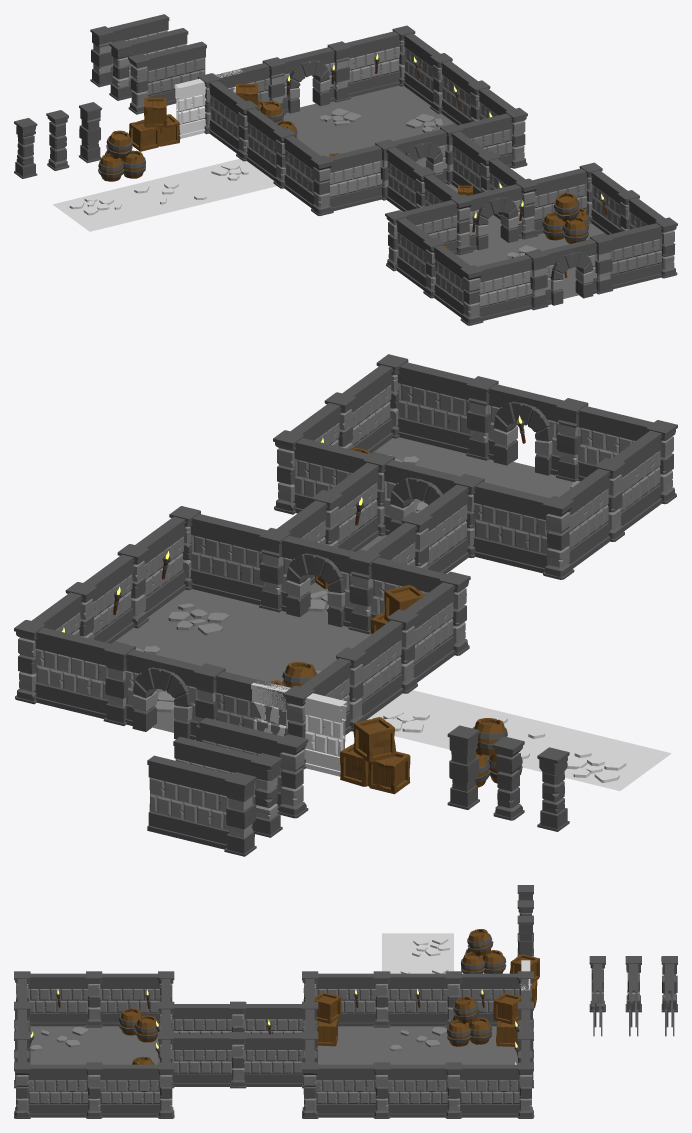
Rendered from Dungeon.fbx.
3 renders of one model, top to bottom at view 1: azimuth 30°, elevation 25°; view 2: azimuth 150°, elevation 25°; view 3: azimuth 270°, elevation 25°, orthographic. The views are drawn at different scales.
Visible parts, largest first — view 1: Cube.036, Cube.007, Cube.035, Cube.003, Cube.052, Cube.013, Cube.006, Cube.038, Cube.014, Cube.022, Cube.011, Cube.039 (+39 smaller); view 2: Cube.005, Cube.040, Cube.007, Cube.012, Cube.052, Cube.035, Cube.011, Cube.006, Cube.036, Cube.039, Cube.015, Cube.014 (+35 smaller); view 3: Cube.025, Cube.026, Cube.010, Cube.008, Cube.009, Cube.015, Cube.018, Cube.019, Cube.039, Cube.038, Cube.014, Cube.016 (+41 smaller).
Boxes of the visible parts, bbox=[...] form: Cube.036: bbox=[478, 249, 548, 320]; Cube.007: bbox=[327, 31, 400, 102]; Cube.035: bbox=[607, 217, 677, 289]; Cube.003: bbox=[128, 41, 206, 114]; Cube.052: bbox=[543, 233, 613, 305]; Cube.013: bbox=[328, 139, 398, 211]; Cube.006: bbox=[262, 47, 335, 115]; Cube.038: bbox=[434, 245, 483, 325]; Cube.014: bbox=[284, 135, 333, 215]; Cube.022: bbox=[467, 184, 523, 250]; Cube.011: bbox=[457, 107, 527, 168]; Cube.039: bbox=[396, 218, 445, 298]; Cube.005: bbox=[147, 755, 256, 856]; Cube.040: bbox=[473, 481, 574, 579]; Cube.007: bbox=[34, 627, 135, 725]; Cube.012: bbox=[259, 528, 356, 627]; Cube.052: bbox=[466, 376, 563, 475]; Cube.035: bbox=[376, 354, 473, 453]; Cube.011: bbox=[169, 506, 266, 604]; Cube.006: bbox=[125, 649, 225, 741]; Cube.036: bbox=[556, 398, 653, 481]; Cube.039: bbox=[560, 458, 626, 568]; Cube.015: bbox=[353, 609, 418, 720]; Cube.014: bbox=[404, 571, 470, 682]; Cube.025: bbox=[100, 1062, 174, 1118]; Cube.026: bbox=[28, 1062, 102, 1118]; Cube.010: bbox=[316, 1062, 390, 1118]; Cube.008: bbox=[459, 1062, 534, 1118]; Cube.009: bbox=[387, 1062, 462, 1118]; Cube.015: bbox=[373, 971, 448, 1027]; Cube.018: bbox=[230, 1032, 303, 1088]; Cube.019: bbox=[158, 1032, 232, 1088]; Cube.039: bbox=[86, 971, 160, 1027]; Cube.038: bbox=[14, 971, 88, 1027]; Cube.014: bbox=[302, 971, 376, 1026]; Cube.016: bbox=[445, 971, 519, 1027].
Size of the model in its own units: 2446 by 308 by 3692.
